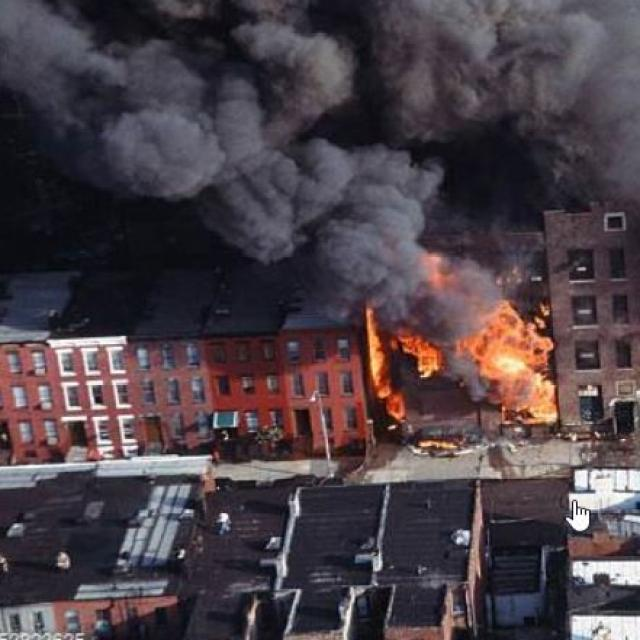Fire: (362, 306, 560, 424)
Smoke: (0, 0, 640, 294)
